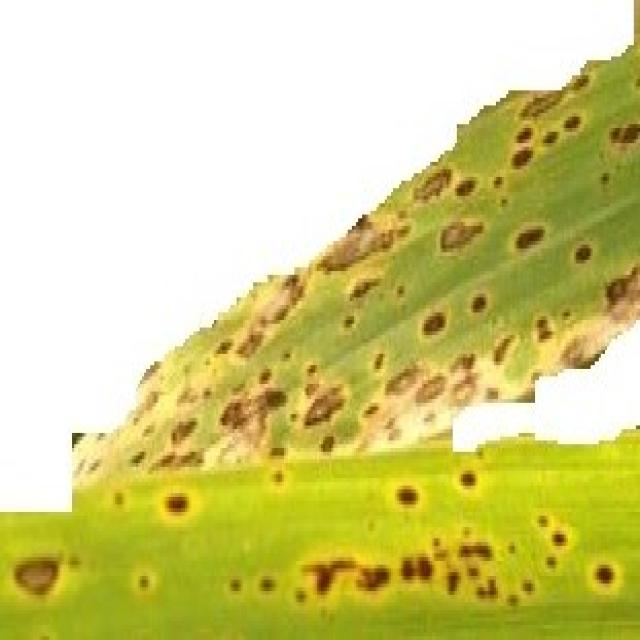Unhealthy: (353, 249, 640, 453), (202, 164, 485, 369), (207, 365, 293, 494), (509, 59, 595, 176), (399, 527, 500, 602), (286, 355, 352, 457), (296, 546, 393, 602), (533, 508, 572, 576), (436, 218, 490, 260), (147, 447, 206, 475), (130, 390, 165, 431), (173, 378, 215, 412), (510, 222, 549, 256), (504, 576, 537, 610), (19, 565, 56, 595), (609, 120, 640, 154), (169, 418, 198, 452), (419, 311, 449, 340), (487, 169, 509, 207), (468, 288, 492, 318), (572, 241, 593, 271), (165, 493, 189, 516), (127, 448, 149, 472), (395, 486, 418, 508), (595, 565, 615, 587), (86, 456, 103, 480), (459, 471, 477, 489), (228, 576, 245, 595), (136, 572, 150, 595), (259, 576, 276, 591), (506, 542, 519, 561), (68, 557, 82, 572), (113, 493, 126, 508), (599, 171, 611, 186), (281, 348, 294, 360)
